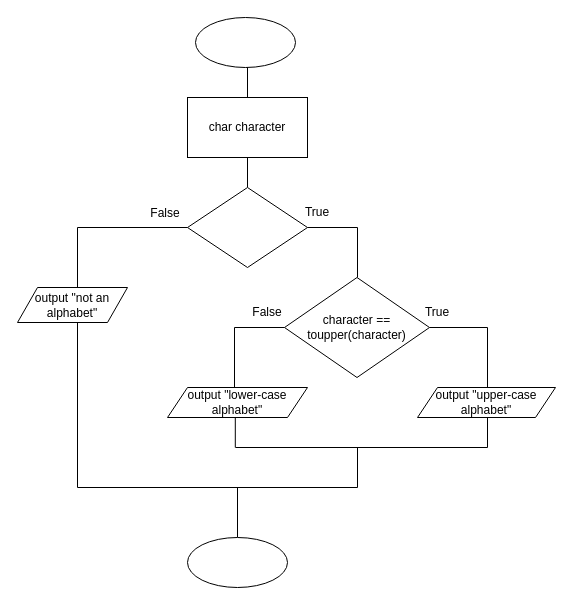
This 573x605 diagram has some shape labels left out. Each missing label, with the centre of its shape:
"End" belongs at (x=237, y=562).
"isalpha(character)" belongs at (x=247, y=227).
"Start" belongs at (x=245, y=42).
